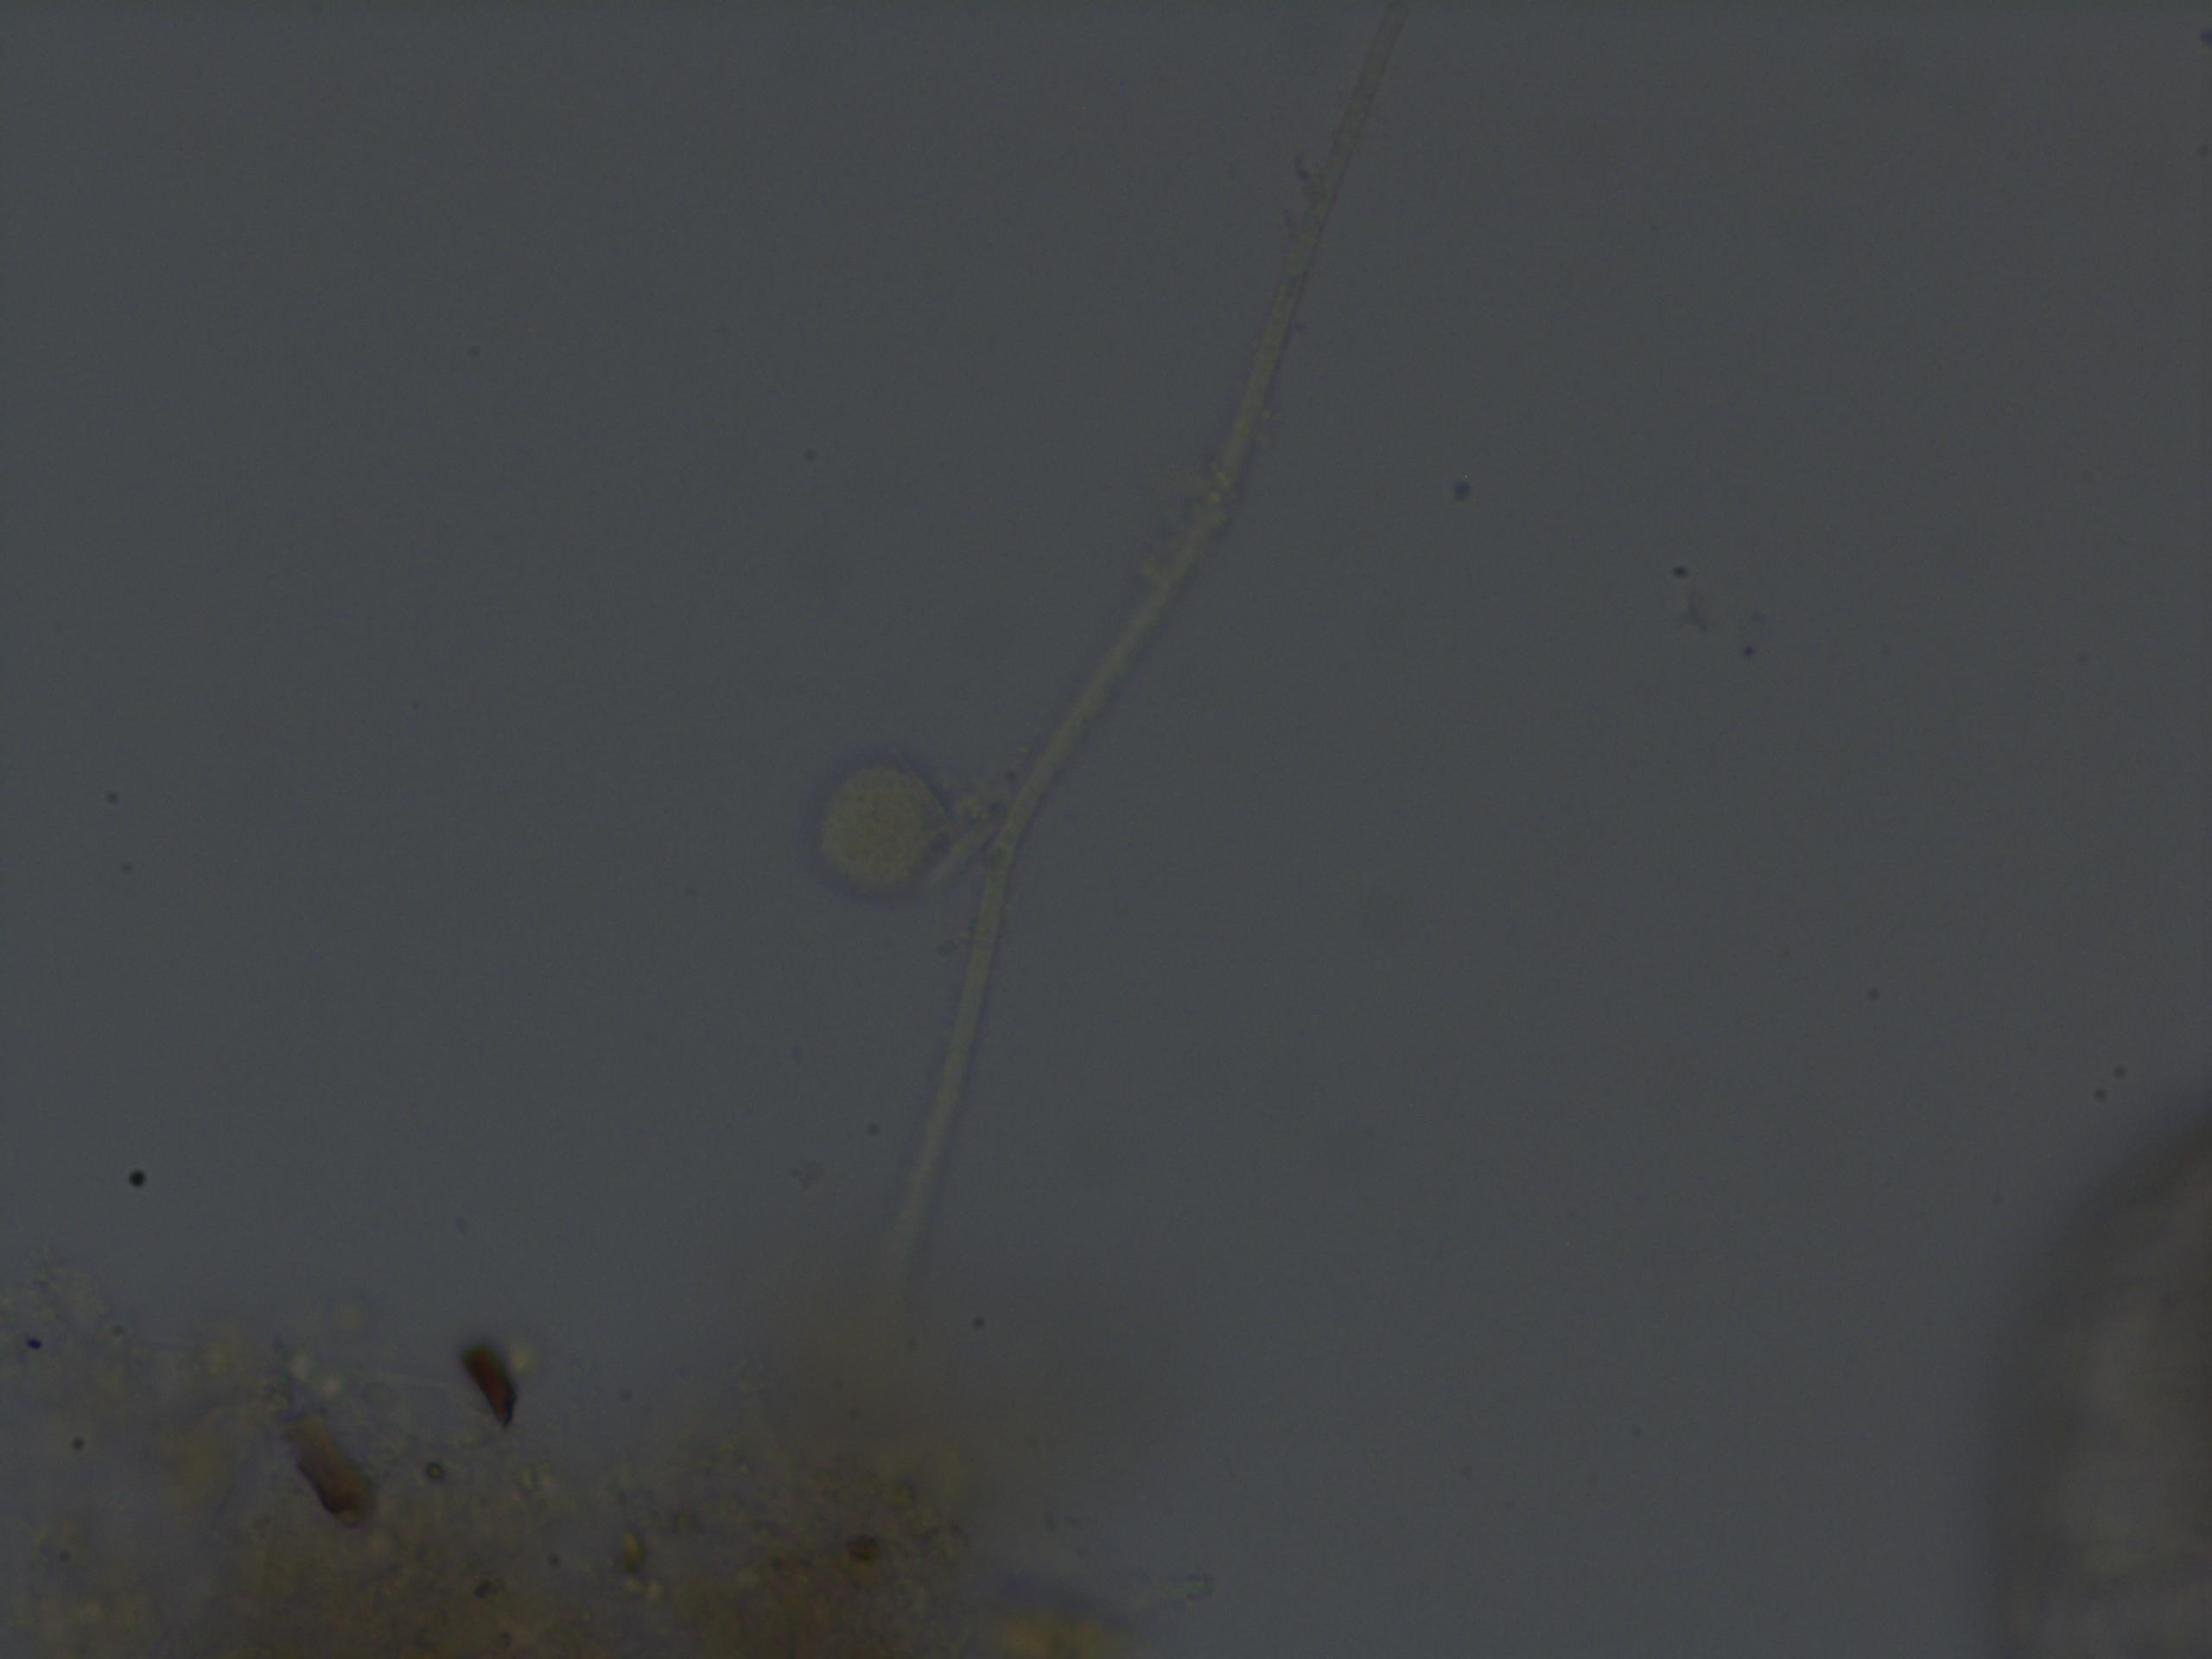filament: (789, 0, 1425, 1378)
